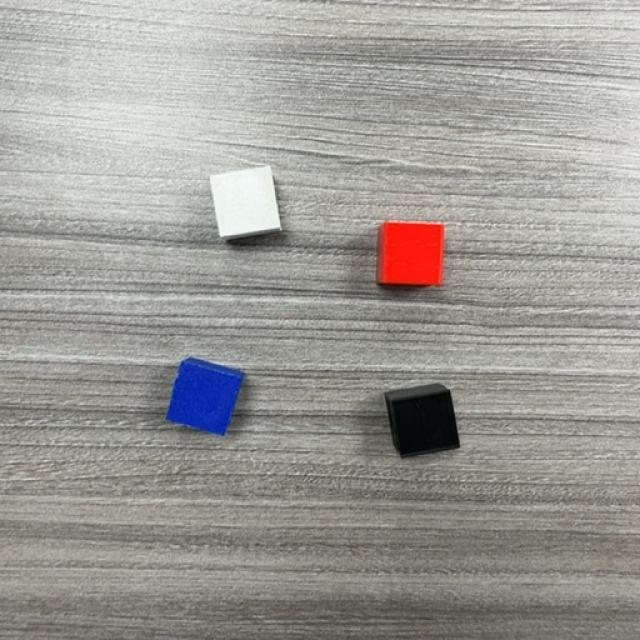Azul: (172, 363, 238, 432)
Blanco: (213, 168, 280, 238)
Negro: (390, 397, 459, 455)
Rojo: (382, 223, 443, 284)
